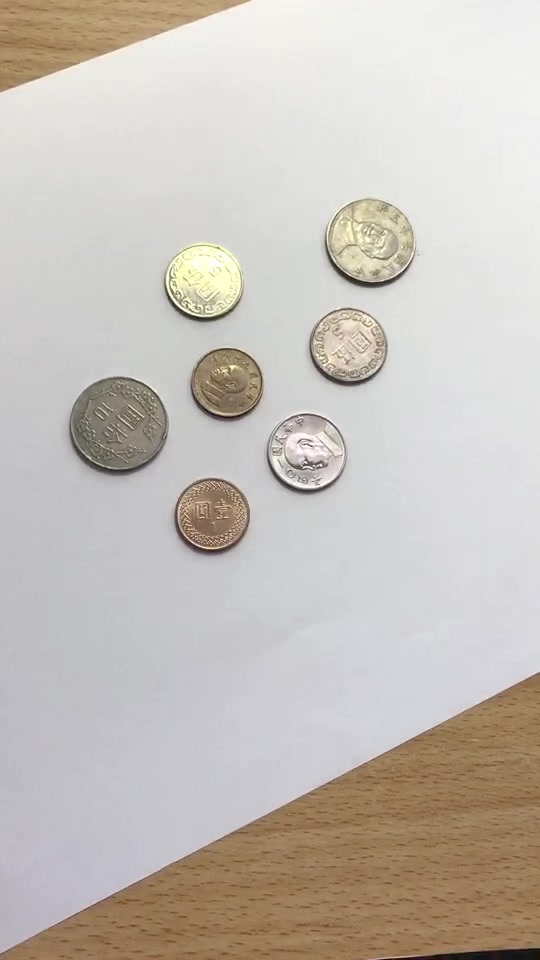1 dallar: (168, 474, 254, 560), (185, 343, 266, 419)
10 dallar: (55, 372, 178, 481), (309, 185, 432, 294)
5 dallar: (155, 240, 256, 325), (297, 298, 398, 383), (258, 407, 359, 492)
